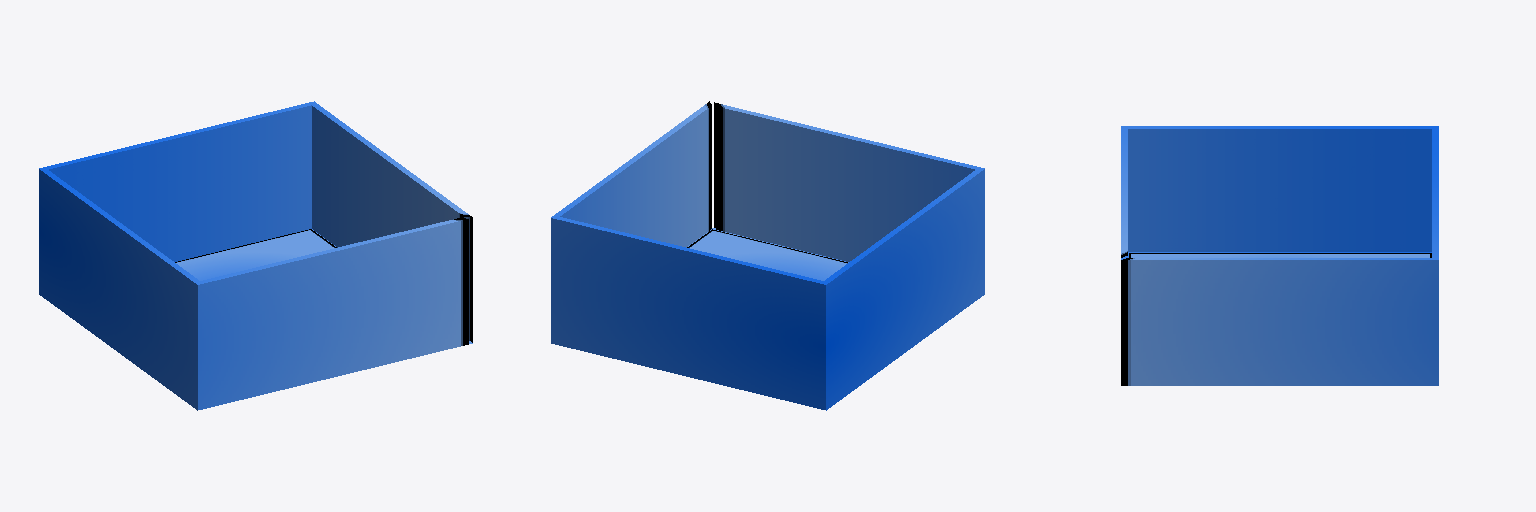
The picture shows the model from 3 angles: view 1: azimuth 30°, elevation 25°; view 2: azimuth 150°, elevation 25°; view 3: azimuth 270°, elevation 25°; orthographic projection.
Parts seen in each view (by area): view 1: Cube_Cube.002; view 2: Cube_Cube.002; view 3: Cube_Cube.002.
Boxes of the visible parts, x1=… form: Cube_Cube.002: x1=39, y1=101, x2=472, y2=410; Cube_Cube.002: x1=551, y1=101, x2=984, y2=410; Cube_Cube.002: x1=1121, y1=126, x2=1438, y2=385.
Bounding box in the file's own units: 278 × 121 × 278.
1 materials, 1 textured.